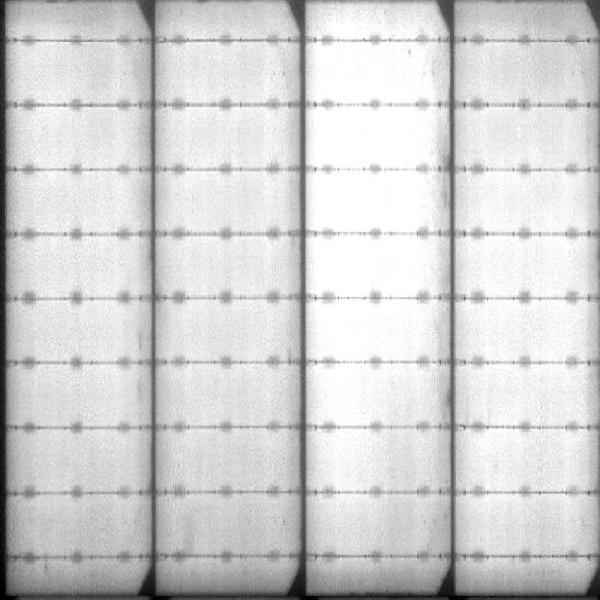hot_spot: (314, 239, 429, 294), (314, 177, 425, 229), (314, 115, 426, 163), (316, 56, 424, 99)
